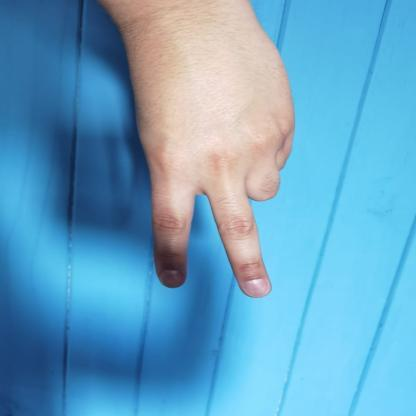N: (97, 0, 318, 309)
